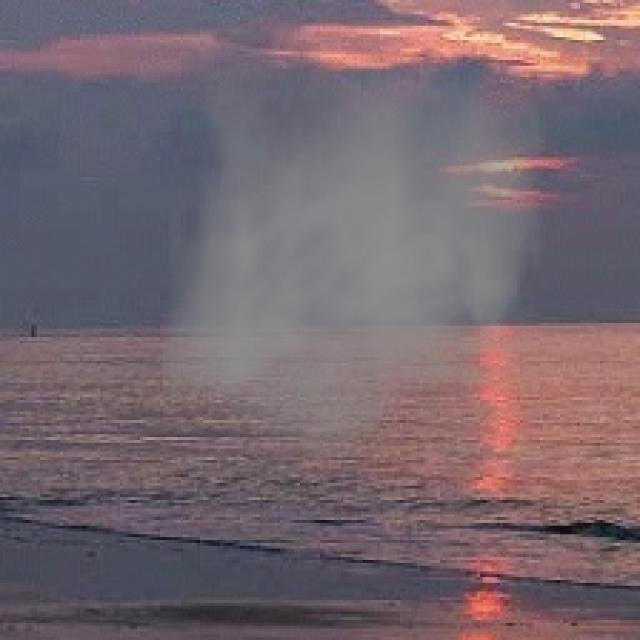Smoke: (163, 68, 546, 474)
